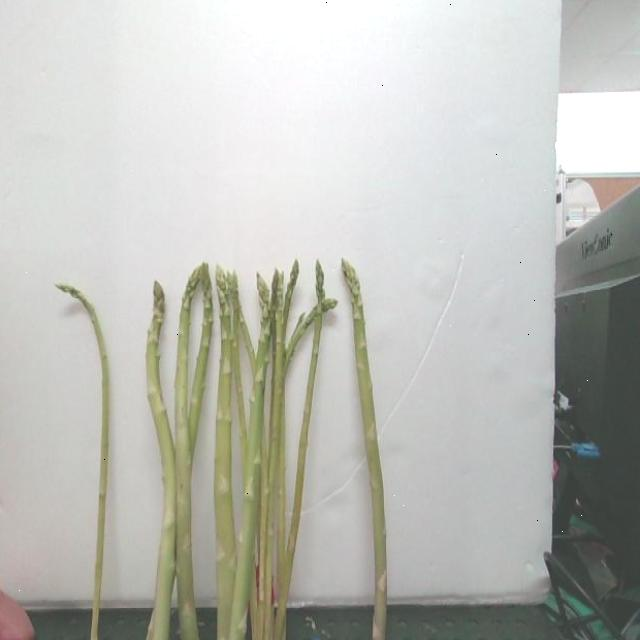aspargus: (57, 284, 115, 640), (341, 262, 387, 640), (144, 283, 183, 640)
